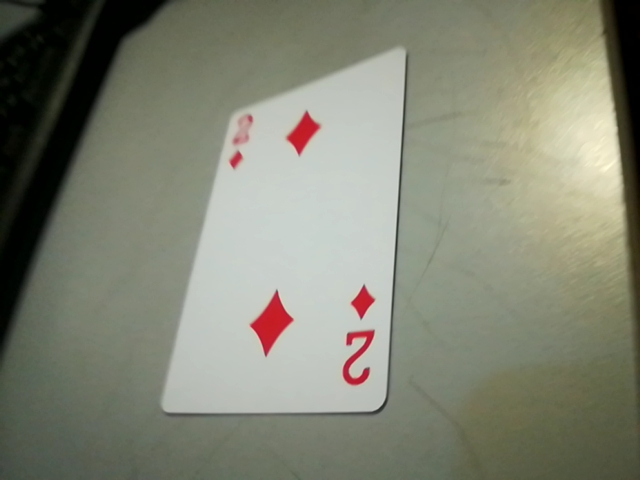fk 2: (332, 280, 389, 403)
